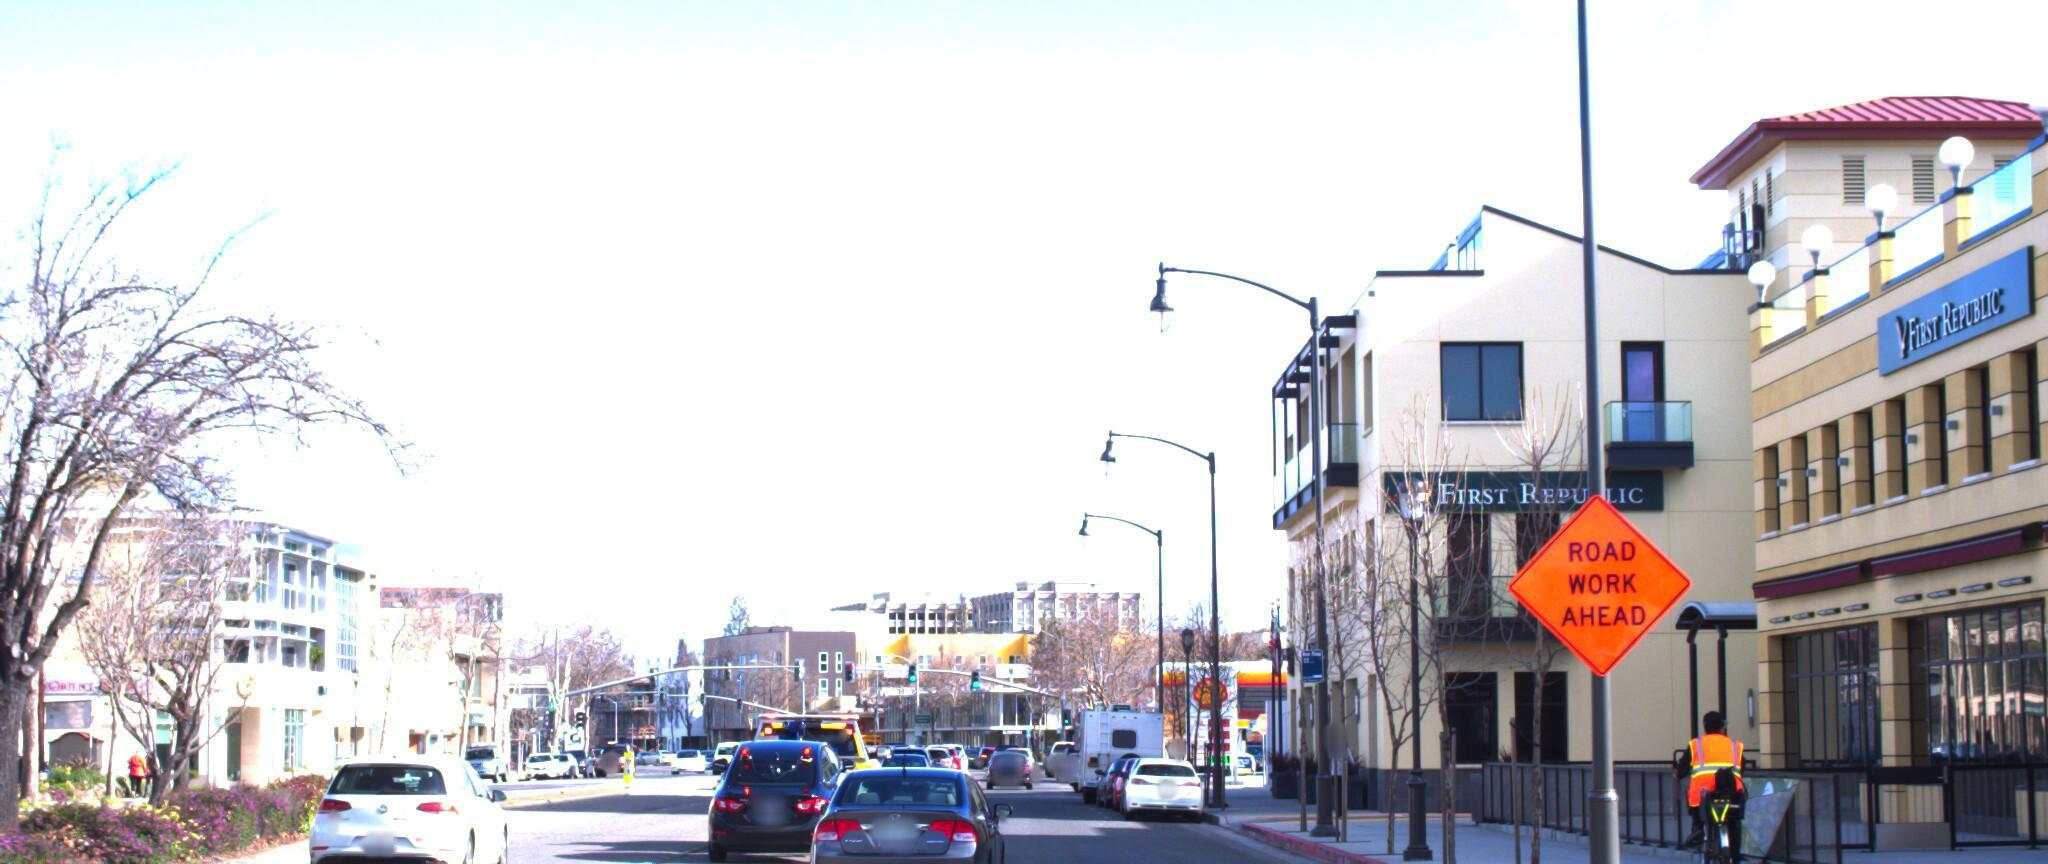bicycle: (1650, 705, 1762, 864)
car: (287, 743, 519, 864), (718, 701, 896, 847), (785, 760, 1006, 864), (699, 724, 842, 859), (1115, 752, 1202, 818)
